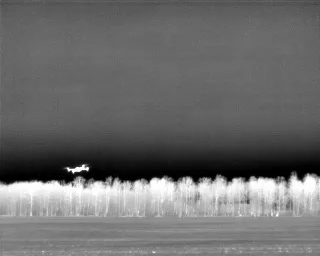DRONE: (61, 160, 93, 177)
